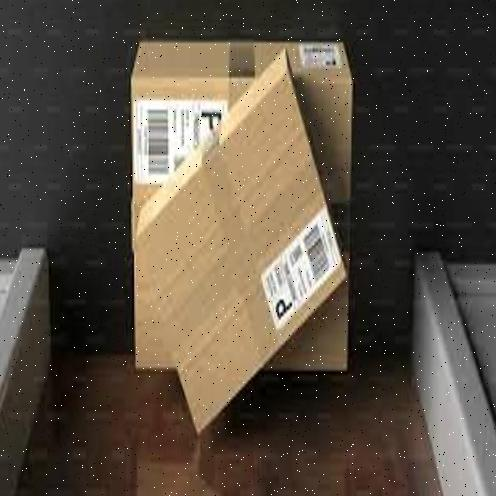Other: (127, 54, 348, 436), (128, 34, 354, 374)
